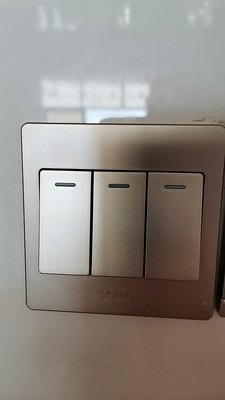switch: (81, 163, 152, 283), (35, 159, 95, 284), (143, 167, 205, 285)
